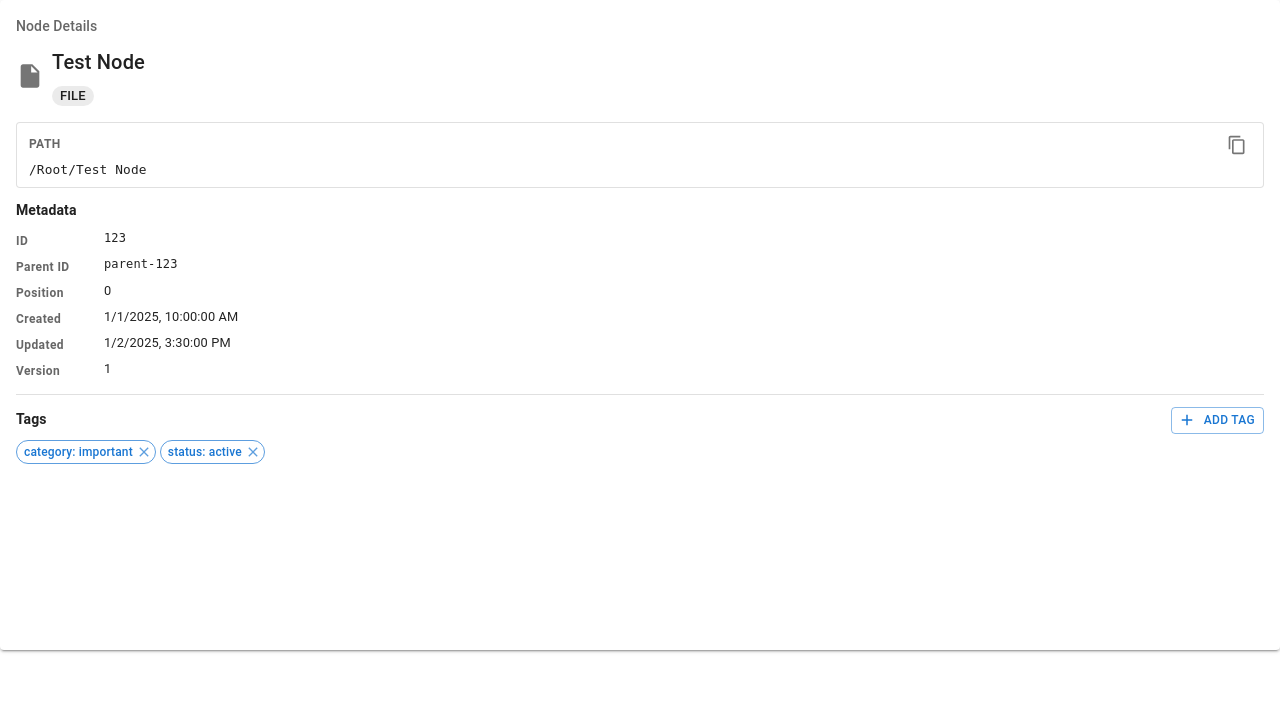
NodeDetailsPanel › should open ConfirmDialog when tag delete button is clicked
Click the 4th icon at (144, 452), box left=136, top=444, right=152, bottom=460
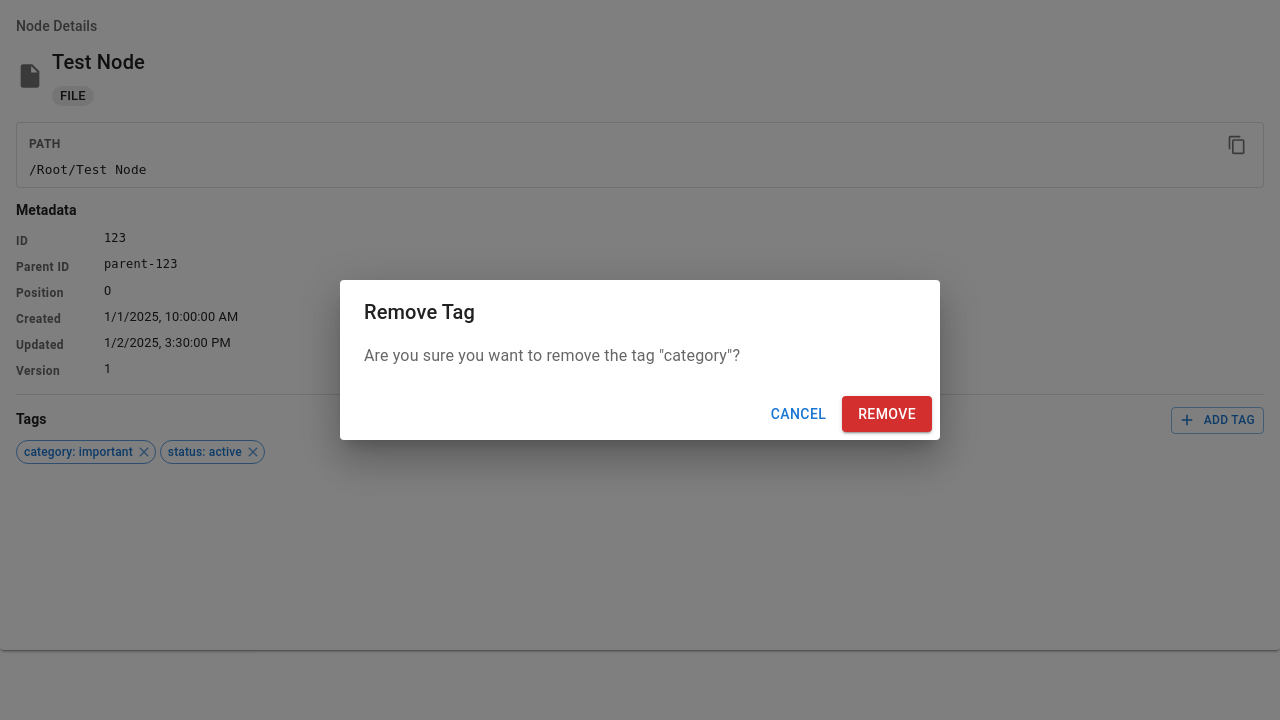
Check: the heading "Remove Tag" is shown, box left=364, top=300, right=475, bottom=324
